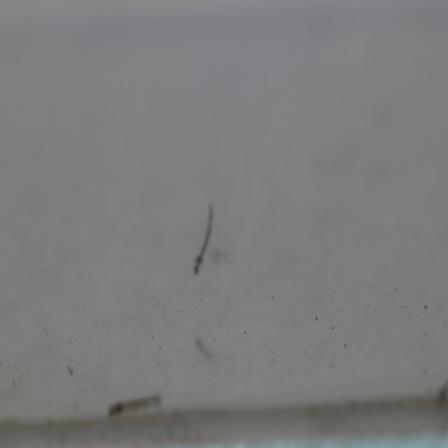Jentik-Nyamuk: (188, 199, 219, 279), (103, 387, 168, 416)
